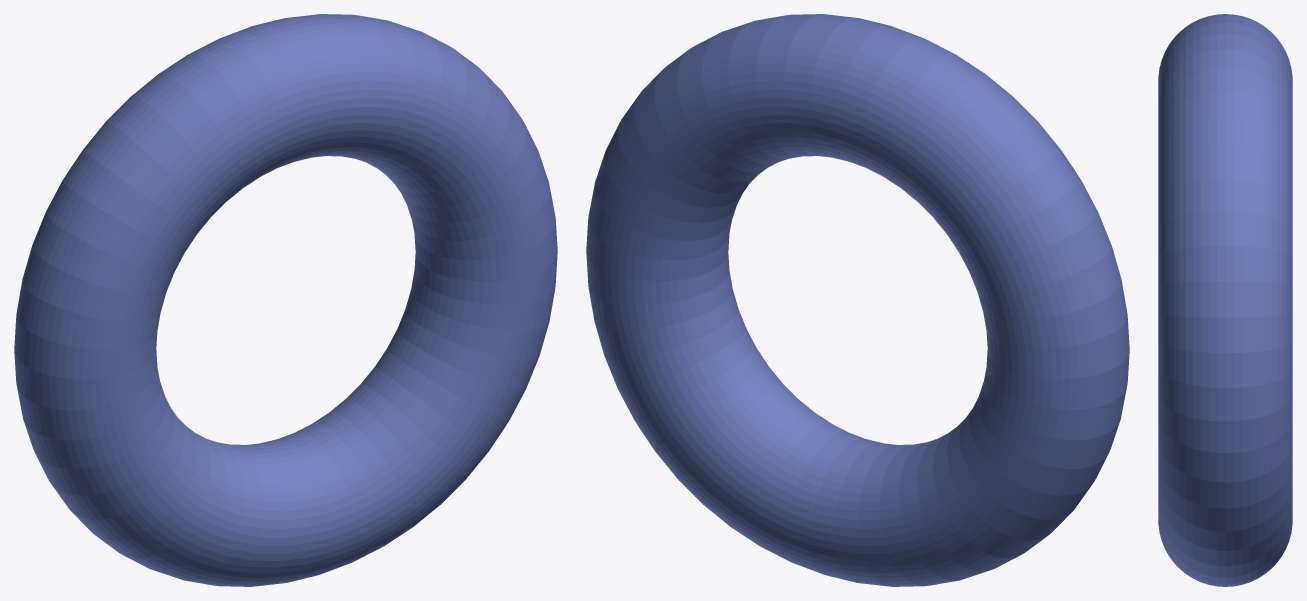
3 views of the same model, side by side, from view 1: azimuth 30°, elevation 25°; view 2: azimuth 150°, elevation 25°; view 3: azimuth 270°, elevation 25° (orthographic). The views are drawn at different scales.
Visible parts, largest first — view 1: world; view 2: world; view 3: world.
Part boxes in pixels (x1,y1,x2,y2): world: (14, 14, 557, 586); world: (586, 14, 1129, 586); world: (1158, 14, 1292, 586).
Bounding box in the file's own units: 13.07 × 13.04 × 3.06.
